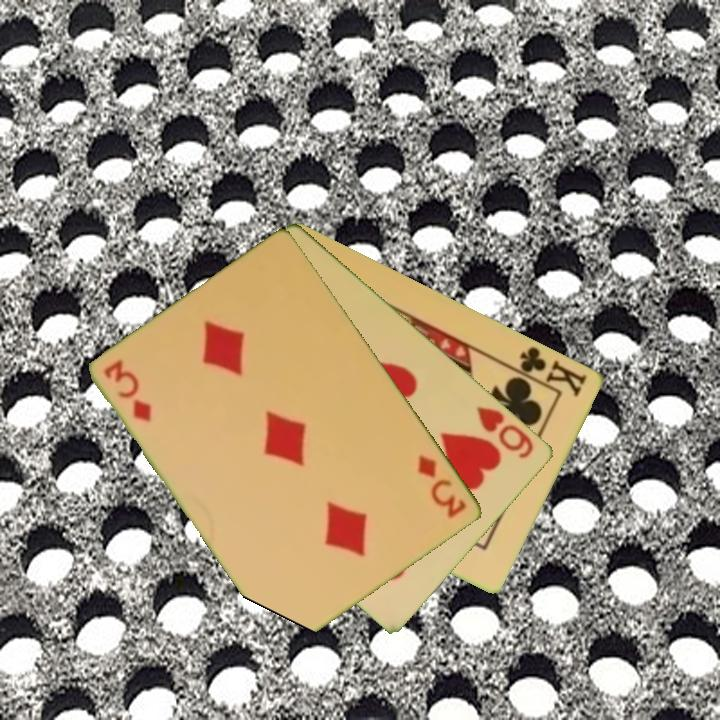3d: (414, 451, 470, 521), (101, 356, 156, 425)
6h: (473, 402, 537, 462)
Kc: (508, 342, 591, 400)
